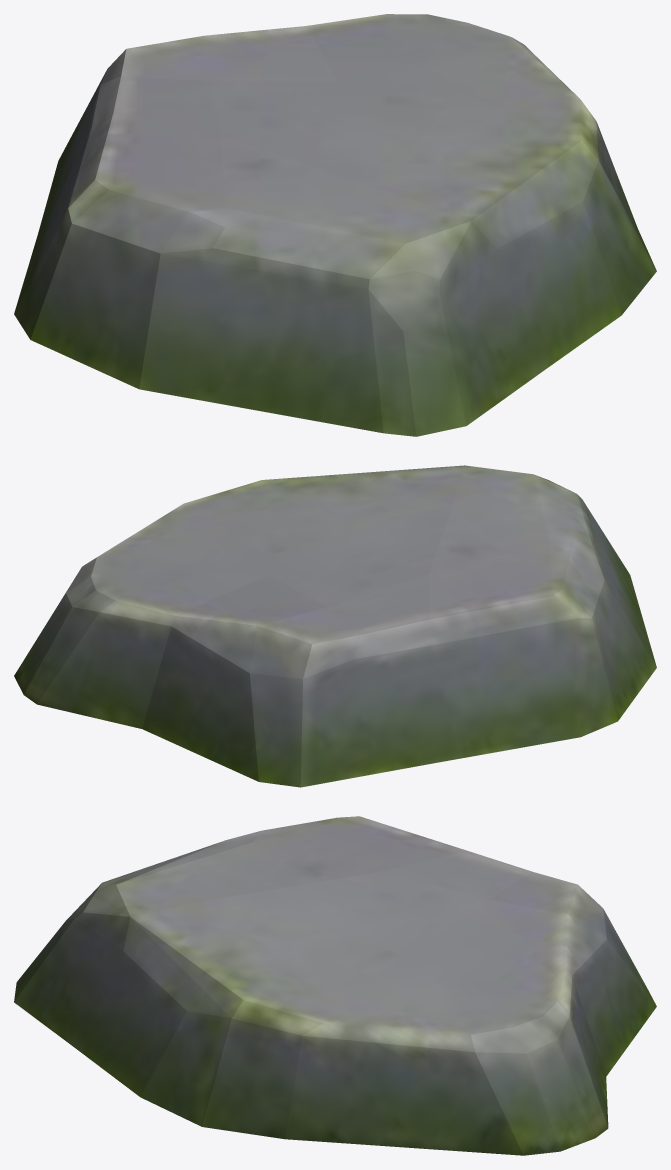
The model's file is Pebble_Round_3.gltf.
3 renders of one model, top to bottom at view 1: azimuth 30°, elevation 25°; view 2: azimuth 150°, elevation 25°; view 3: azimuth 270°, elevation 25°, orthographic. The views are drawn at different scales.
Parts seen in each view (by area): view 1: Pebble_Round_3; view 2: Pebble_Round_3; view 3: Pebble_Round_3.
Boxes of the visible parts, <box> form: Pebble_Round_3: <box>14,14,656,436</box>; Pebble_Round_3: <box>14,465,656,787</box>; Pebble_Round_3: <box>14,816,656,1155</box>.
Size of the model in its own units: 0.4497 by 0.0986 by 0.4848.
Materials: 1 (1 with a texture image).
